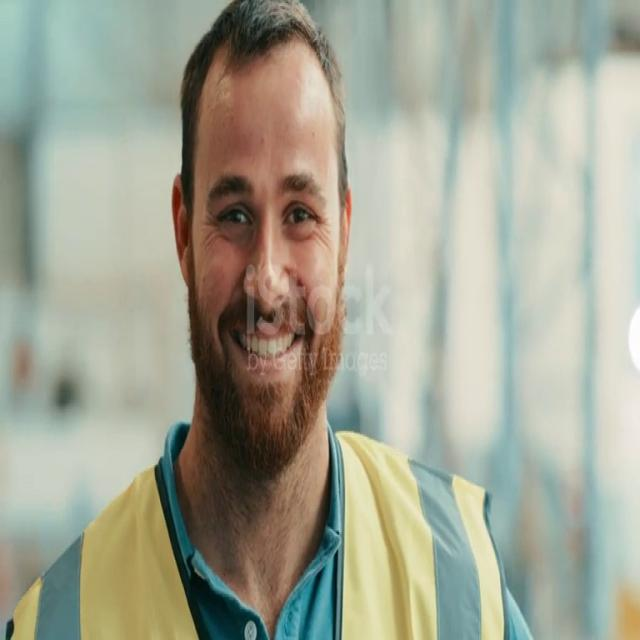sem_capacete: (130, 9, 375, 505)
